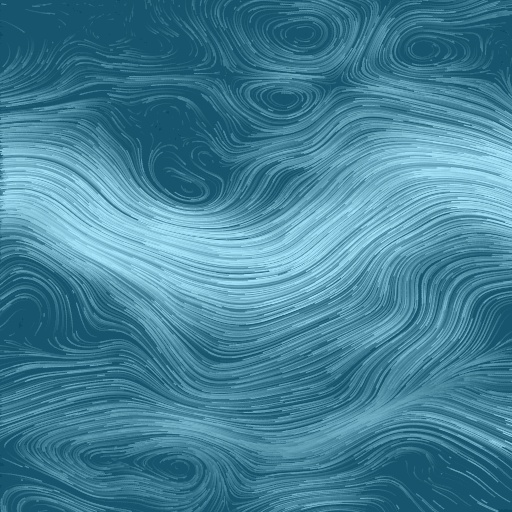eddy: (383, 24, 483, 78), (260, 5, 346, 65), (125, 442, 212, 492), (143, 145, 214, 206), (243, 77, 321, 122)
